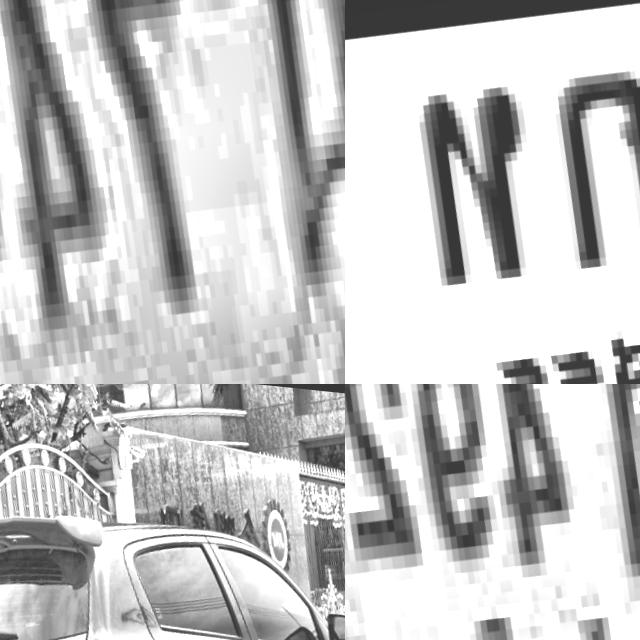license-plate: (0, 0, 345, 384), (345, 0, 640, 384), (345, 384, 640, 640)
